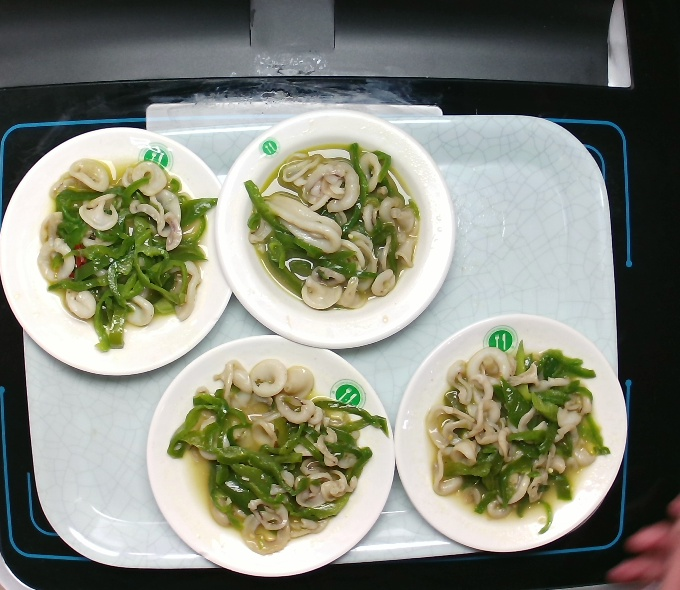wcq-QingJiaoYouYu: (165, 358, 392, 550), (31, 156, 220, 355), (423, 346, 612, 545), (240, 133, 429, 332)
